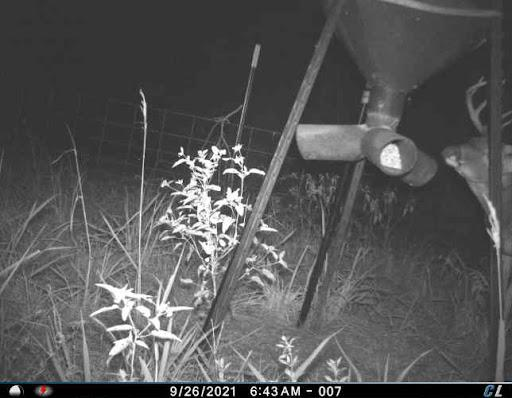Deer: (434, 67, 512, 375)
